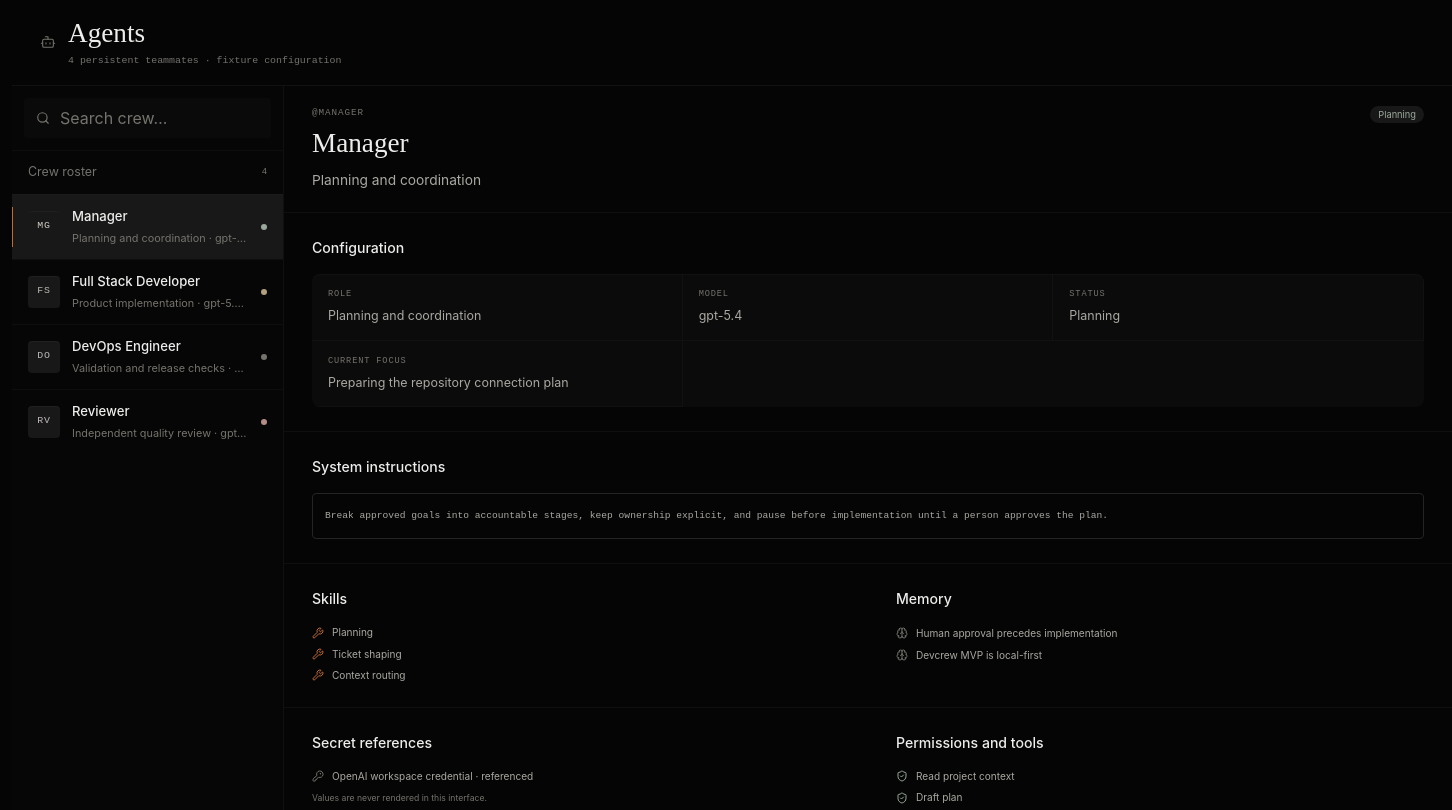
Test: focused Sprint 2A interactions › changes the agent detail panel when an agent is selected
What coordinates should you click on to do the following:
click the button that starts with "Full Stack Developer"
I would click on:
 (148, 291)
Its box is [12, 259, 283, 324].
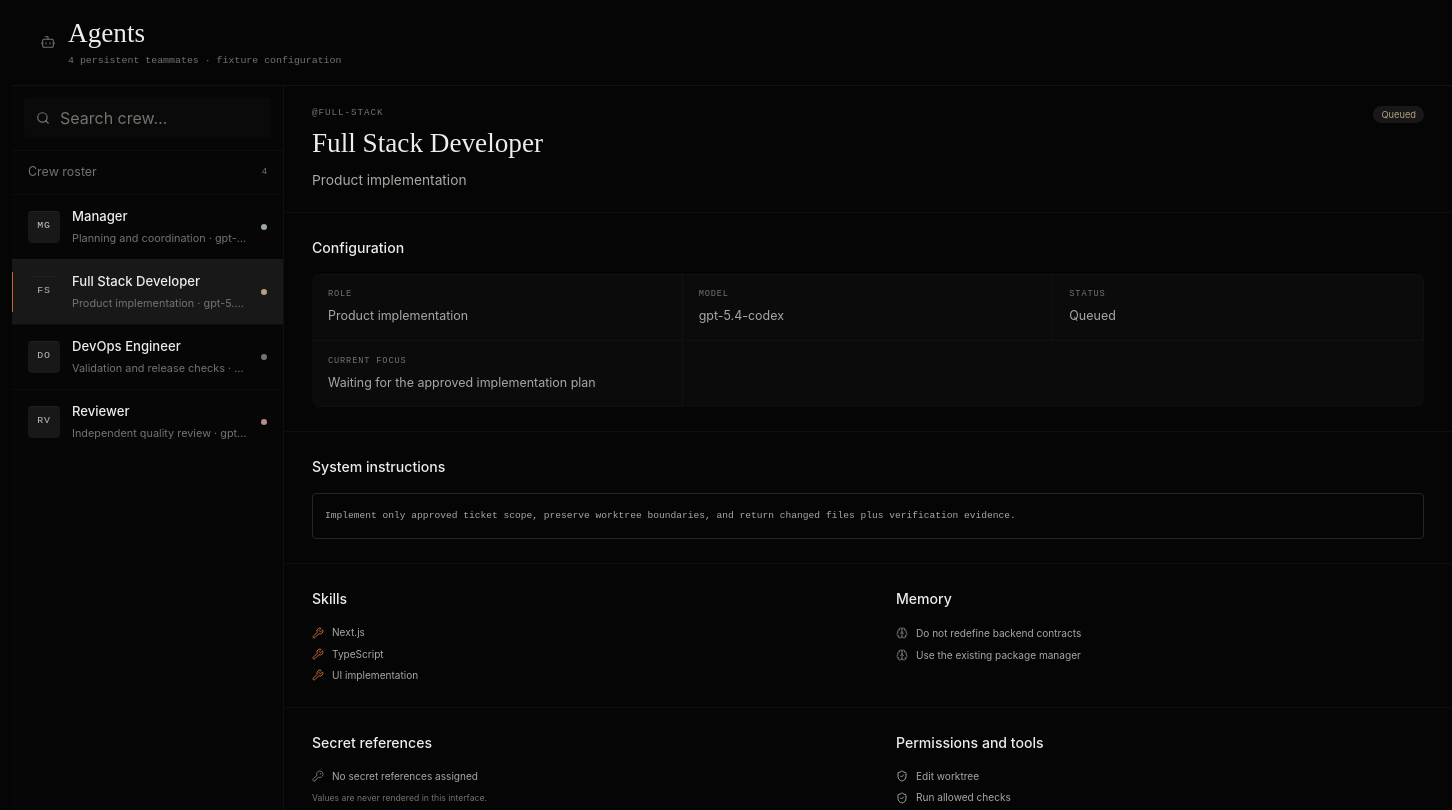
Check: the text "@full-stack" is shown, box [312, 107, 383, 118]
Check: the text "Implement only approved ticket scope" is shown, box [325, 510, 1016, 521]
